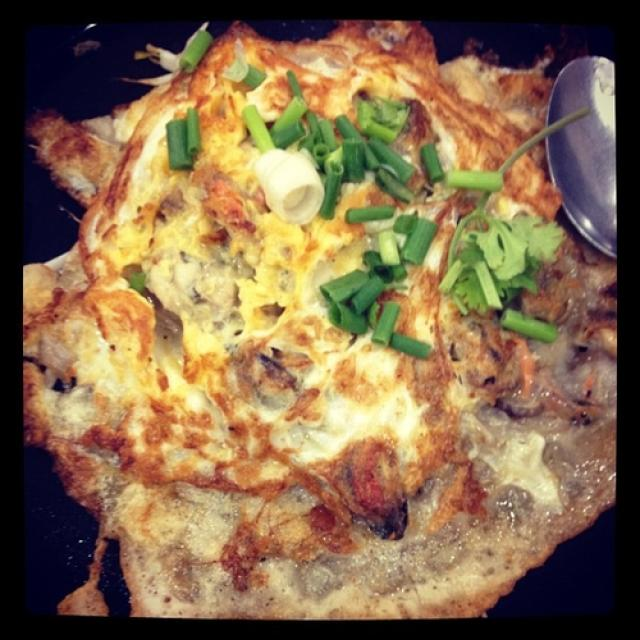炸货点心: (19, 28, 608, 597)
蛋糕甜品: (19, 28, 608, 597)
